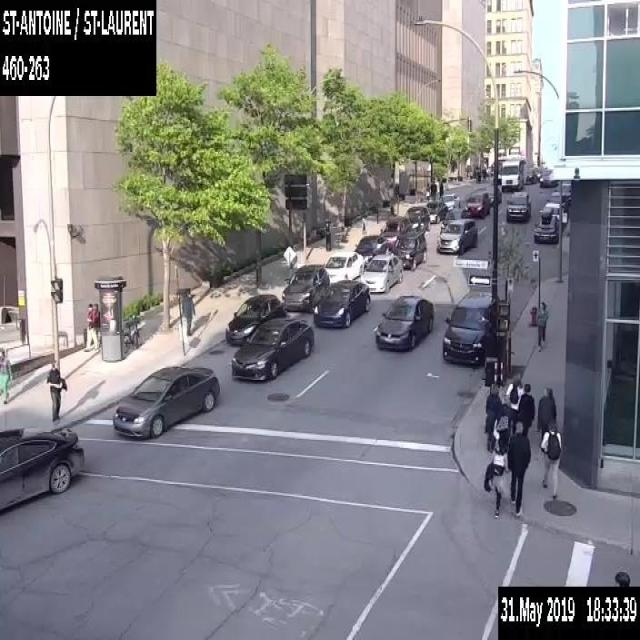pedestrian: (506, 421, 530, 516), (483, 439, 509, 519), (540, 419, 562, 498), (45, 358, 67, 422), (492, 401, 512, 471), (484, 382, 501, 451), (504, 374, 522, 434), (536, 384, 556, 438), (517, 382, 534, 434), (0, 347, 12, 404), (181, 290, 196, 334), (84, 302, 97, 351), (90, 302, 101, 351), (536, 300, 546, 349), (614, 571, 630, 584), (431, 180, 436, 200), (481, 165, 486, 181), (439, 180, 443, 196)
vehicle: (112, 362, 219, 438), (0, 422, 85, 514), (231, 316, 313, 380), (441, 287, 491, 365), (374, 292, 434, 351), (225, 294, 286, 344), (313, 279, 370, 327), (281, 264, 329, 311), (359, 253, 403, 292), (435, 217, 477, 254), (389, 229, 426, 269), (323, 250, 363, 285), (353, 233, 392, 268), (378, 215, 411, 249), (534, 206, 558, 242), (505, 190, 530, 222), (501, 158, 523, 190), (404, 205, 429, 231), (465, 190, 490, 216), (440, 207, 468, 230), (542, 202, 567, 223), (424, 200, 447, 222), (479, 183, 501, 204), (546, 191, 568, 210), (438, 192, 459, 210), (540, 168, 558, 186), (523, 167, 536, 183), (532, 165, 544, 179), (562, 182, 570, 202)
